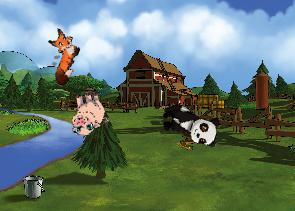fox: (35, 26, 86, 87)
panda: (156, 100, 223, 149)
pig: (65, 89, 109, 136)
